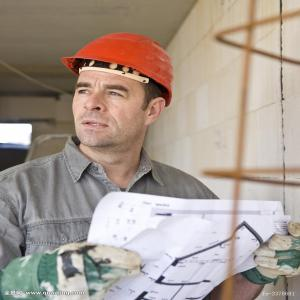red: (67, 35, 175, 150)
